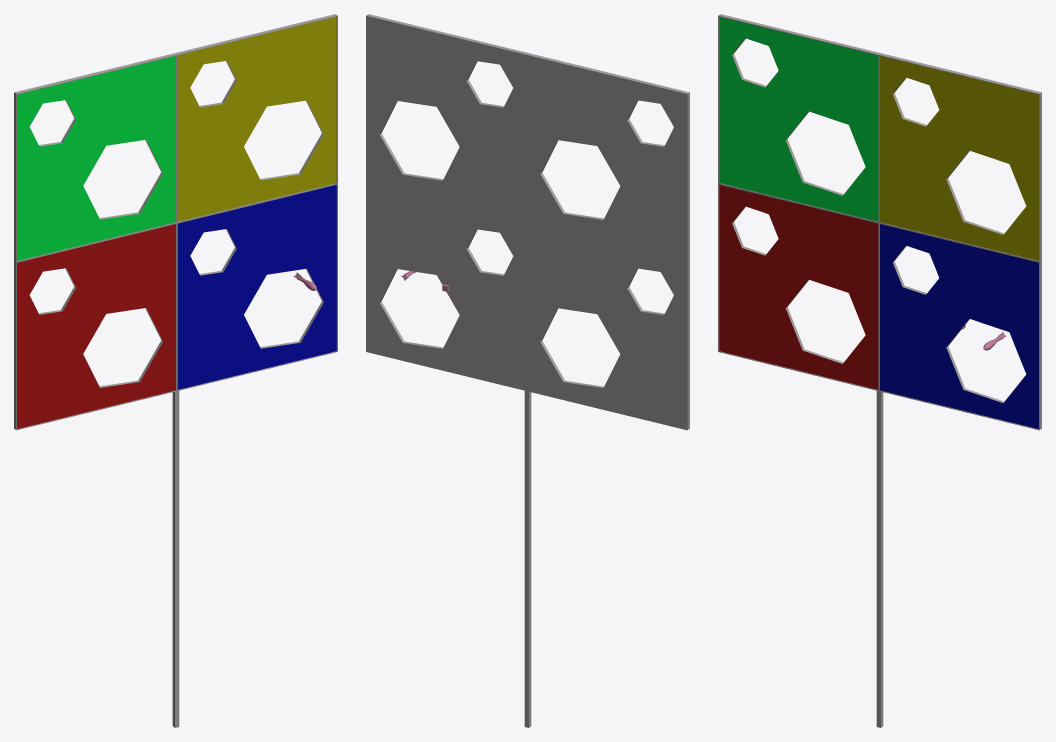
The model's file is TorpedoTargetsColors.dae.
3 renders of one model, left to right at view 1: azimuth 30°, elevation 25°; view 2: azimuth 150°, elevation 25°; view 3: azimuth 330°, elevation 25°, orthographic.
Visible parts, largest first — view 1: TORPEDO-TARGETS; view 2: TORPEDO-TARGETS; view 3: TORPEDO-TARGETS.
Part boxes in pixels (x1,y1,x2,y2): TORPEDO-TARGETS: [14, 14, 337, 727]; TORPEDO-TARGETS: [366, 14, 689, 727]; TORPEDO-TARGETS: [718, 14, 1041, 727].
Bounding box in the file's own units: 122 × 13.7 × 244.
